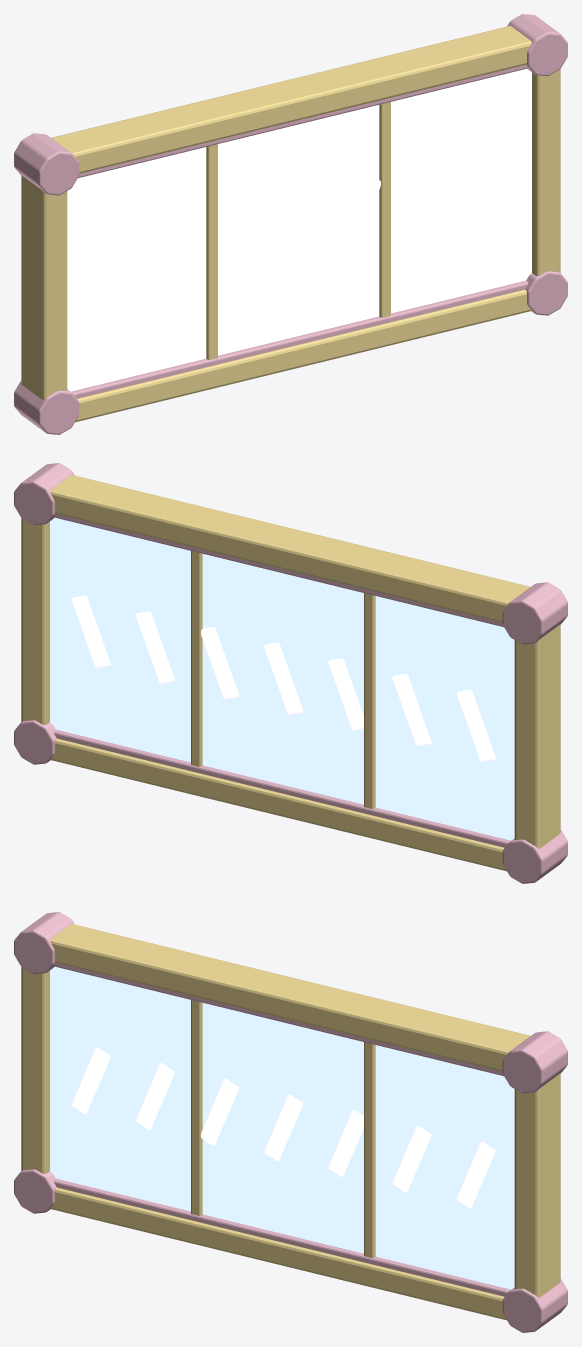
The model's file is mirror_wall_panel.glb.
3 renders of one model, top to bottom at view 1: azimuth 30°, elevation 25°; view 2: azimuth 150°, elevation 25°; view 3: azimuth 330°, elevation 25°, orthographic.
Visible parts, largest first — view 1: MirrorGlass, FrameBotOuter, Cartouche_-4.38_-2.05, ChevA-1; view 2: MirrorGlass, FrameBotOuter, Cartouche_-4.38_-2.05, ChevA-1; view 3: MirrorGlass, FrameBotOuter, Cartouche_-4.38_-2.05, ChevA-1.
Boxes of the visible parts, left/top/right/bottom form: MirrorGlass: left=67, top=68, right=531, bottom=391; FrameBotOuter: left=21, top=26, right=560, bottom=422; Cartouche_-4.38_-2.05: left=14, top=14, right=567, bottom=434; ChevA-1: left=86, top=146, right=510, bottom=313; MirrorGlass: left=50, top=517, right=514, bottom=840; FrameBotOuter: left=21, top=475, right=560, bottom=871; Cartouche_-4.38_-2.05: left=14, top=463, right=567, bottom=883; ChevA-1: left=71, top=595, right=495, bottom=762; MirrorGlass: left=50, top=966, right=514, bottom=1289; FrameBotOuter: left=21, top=924, right=560, bottom=1320; Cartouche_-4.38_-2.05: left=14, top=912, right=567, bottom=1332; ChevA-1: left=71, top=1047, right=495, bottom=1208.
Size of the model in its own units: 9.48 by 4.85 by 0.82.
